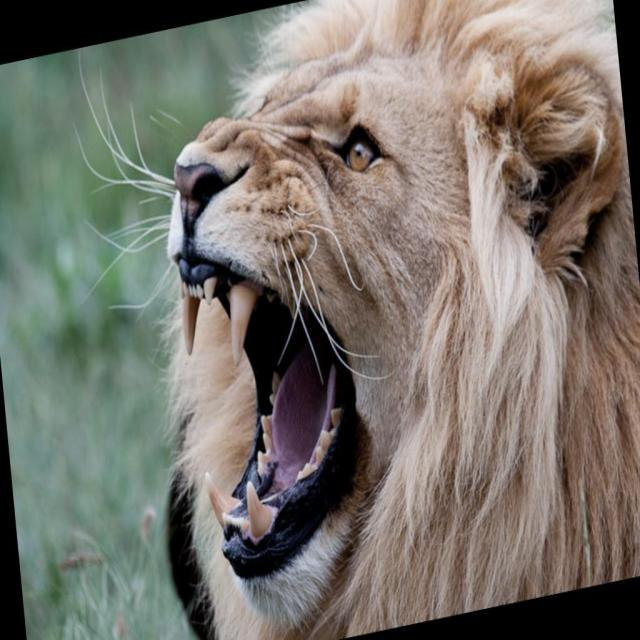Lion: (56, 0, 640, 639)
